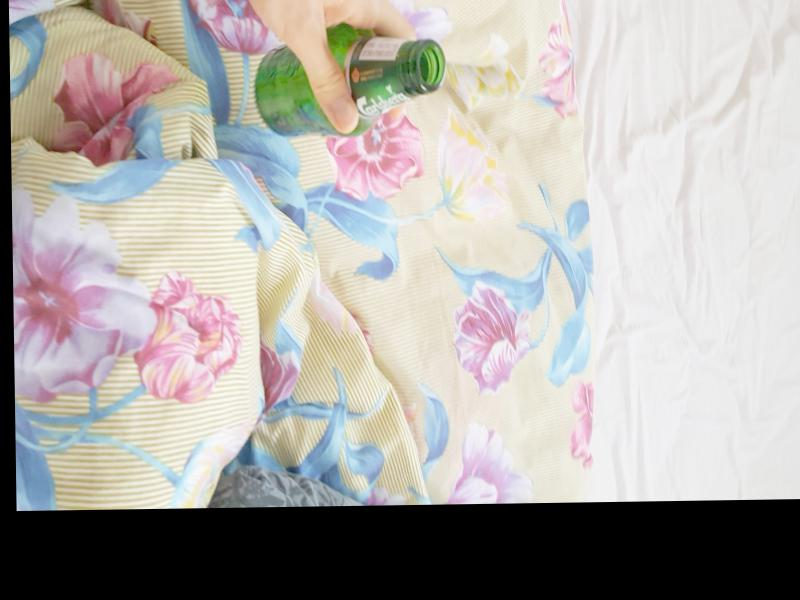Beer: (253, 21, 443, 135)
